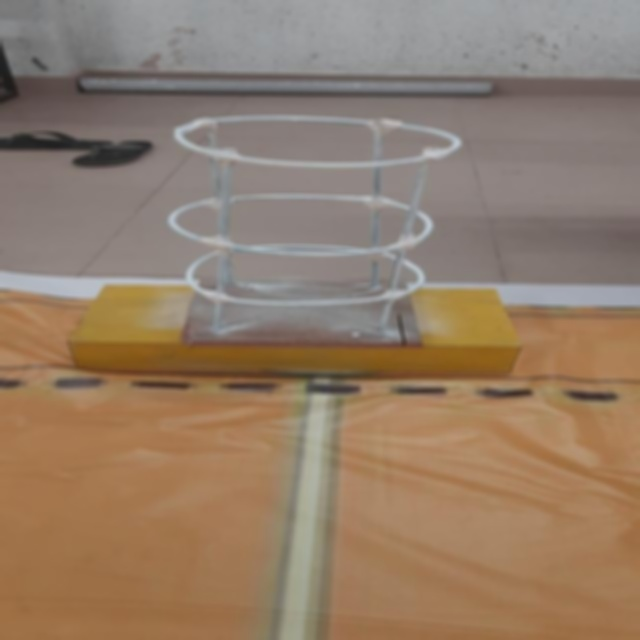silo: (126, 105, 488, 361)
